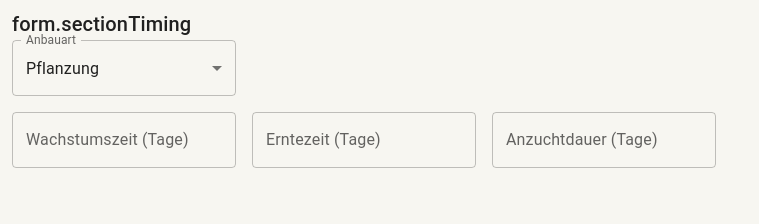
Scenario: TimingSection › explains each timing field using the dates used by the calculation
This screenshot has width=759, height=224.
Hover over the number field labelled "Wachstumszeit (Tage)" at (124, 140), box 12,112 -> 236,168
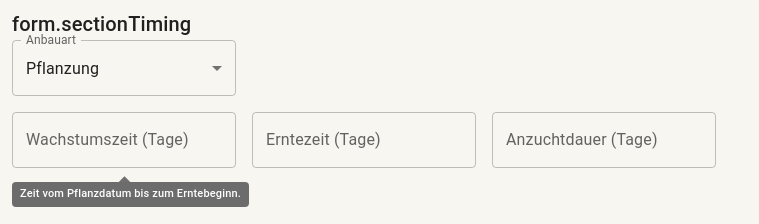
Now the tooltip reads "Zeit vom Pflanzdatum bis zum Erntebeginn.", box 20,187 -> 241,200
Move the pointer off the number field labelled "Wachstumszeit (Tage)", box 12,112 -> 236,168
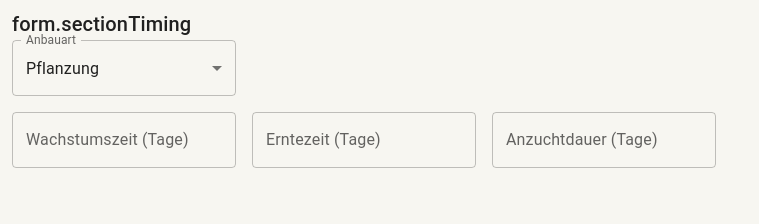
Now the tooltip "Zeit vom Pflanzdatum bis zum Erntebeginn." is gone
Hover over the number field labelled "Erntezeit (Tage)" at (364, 140), box 252,112 -> 476,168
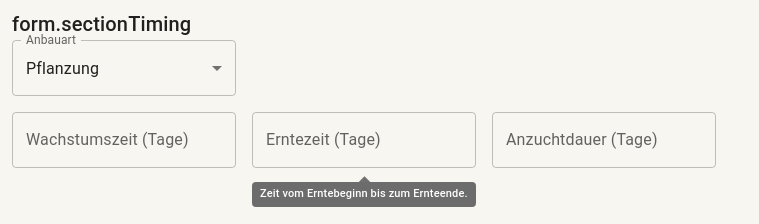
Now the tooltip reads "Zeit vom Erntebeginn bis zum Ernteende.", box 260,187 -> 468,200
Move the pointer off the number field labelled "Erntezeit (Tage)", box 252,112 -> 476,168
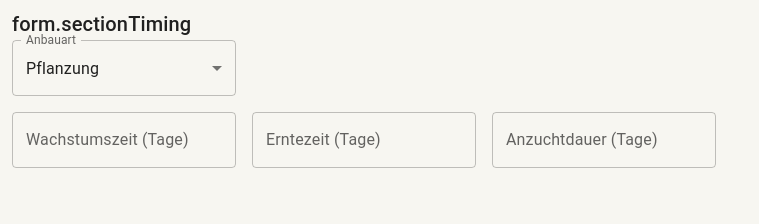
Now the tooltip "Zeit vom Erntebeginn bis zum Ernteende." is gone
Hover over the number field labelled "Anzuchtdauer (Tage)" at (604, 140), box 492,112 -> 716,168
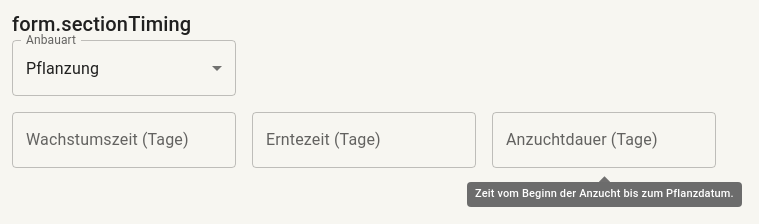
Now the tooltip reads "Zeit vom Beginn der Anzucht bis zum Pflanzdatum.", box 475,187 -> 734,200
Move the pointer off the number field labelled "Anzuchtdauer (Tage)", box 492,112 -> 716,168
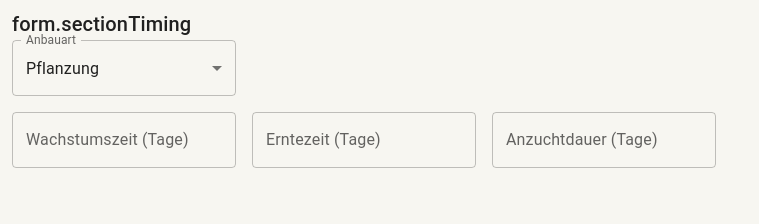
Now the tooltip "Zeit vom Beginn der Anzucht bis zum Pflanzdatum." is gone
